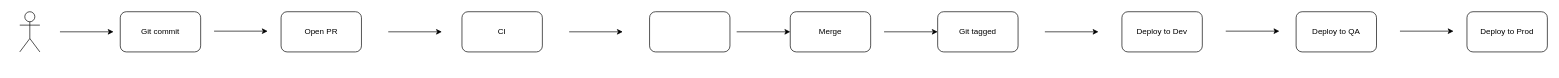
Image size: 1559x78. Some labels were removed from this diagram. Each missing label, with the centre of its shape:
"Allow to merge" belongs at (689,31).
"Developer" belongs at (29,31).
